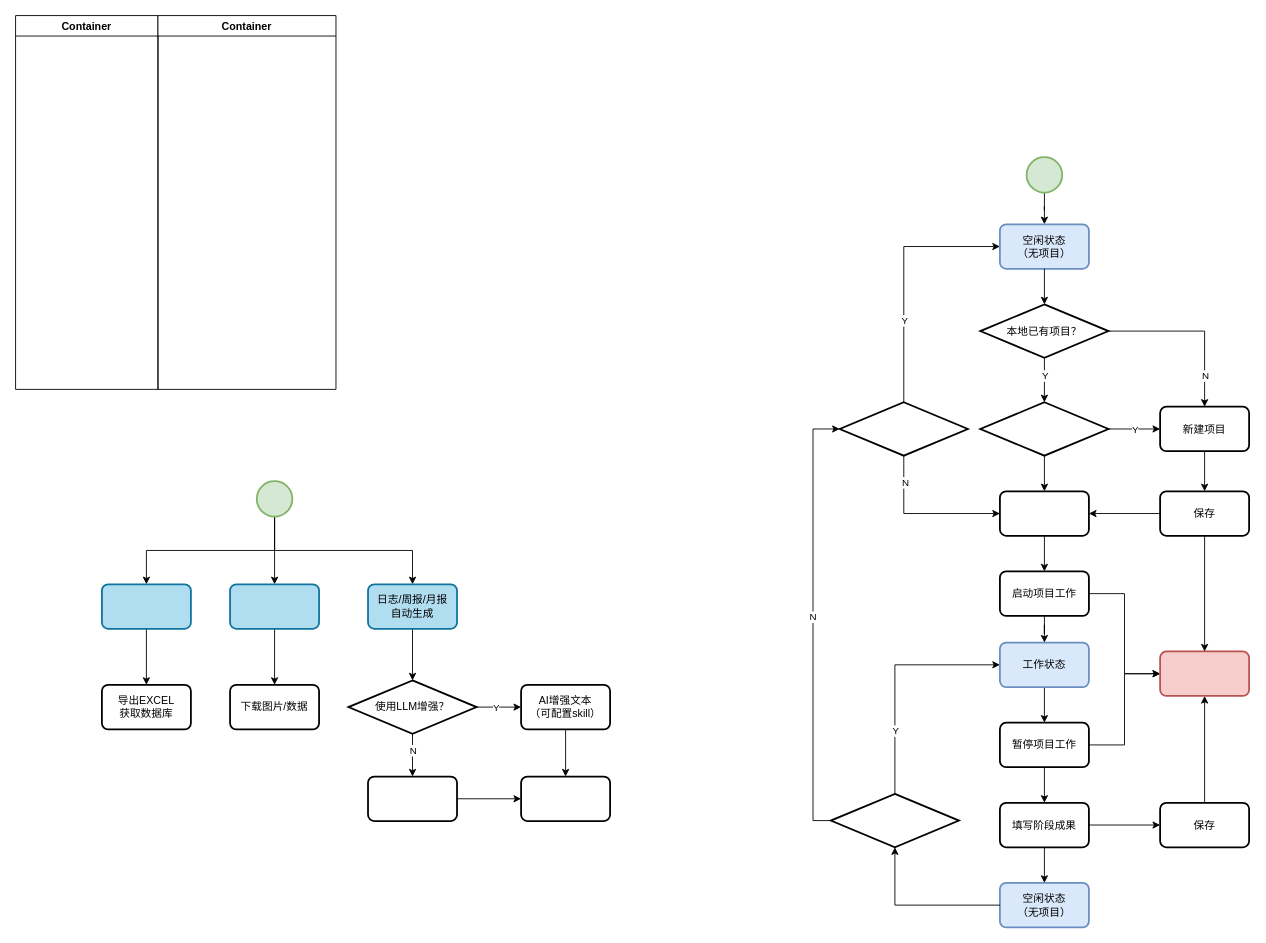
Image size: 1266x943. Some labels were removed from this diagram. The shapes that lost their labels are listed below. From the top down, each one's centre as x and y in pixels, then its label:
[903,428]: 取消项目选择？
[1044,428]: 新建项目？
[1044,513]: 选择已有项目
[146,606]: 查看项目数据及 项目细节
[274,606]: 工时分配统计看板 甘特/扇形
[1204,673]: 数据持久化
[412,798]: 固定模板文本 （可配置格式）
[565,798]: 复制文本
[894,820]: 继续当前项目？
